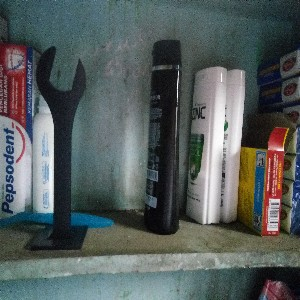spanner: (23, 46, 89, 251)
